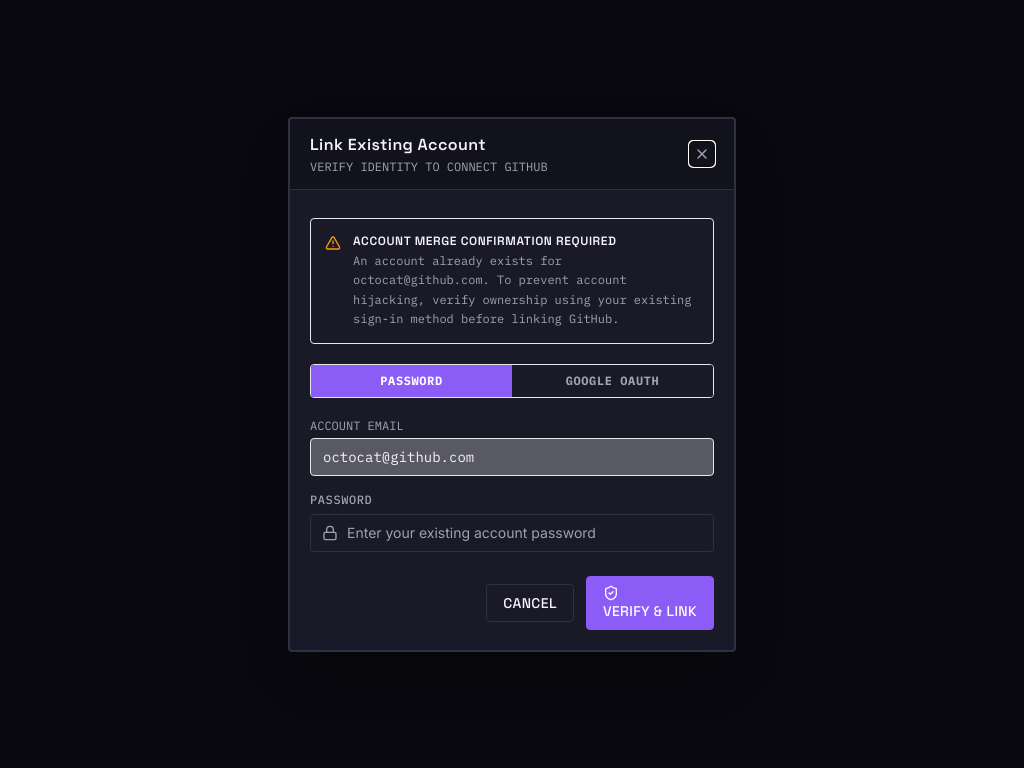
Test: AccountLinkingModal Component › handles password link failure and displays error alert
In the password field with placeholder "Enter your existing account password": (512, 532) [310, 514, 714, 552], type "WrongPassword"
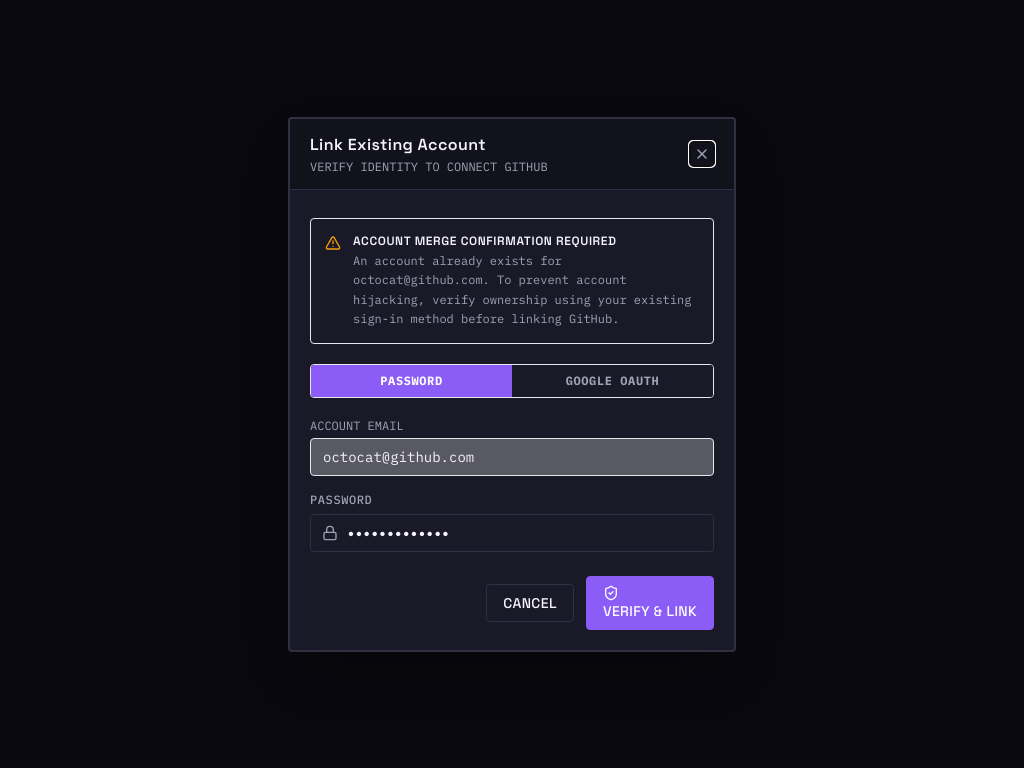
Click the button "Verify & Link": click(650, 602) [586, 576, 714, 630]
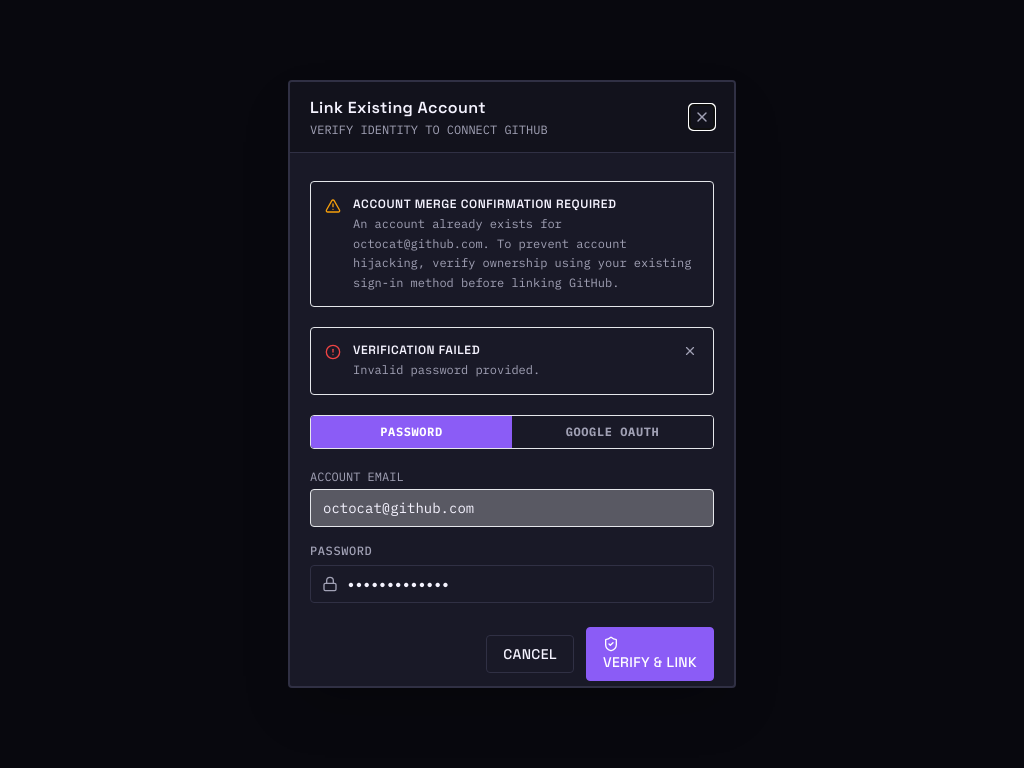
Expected: the text "Invalid password provided." is shown, [353, 362, 540, 377]
